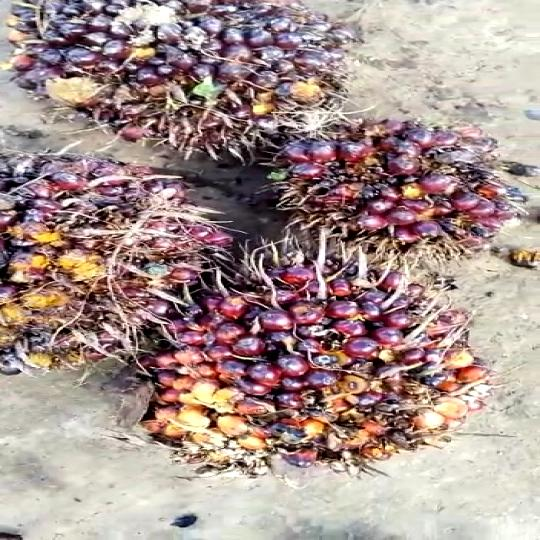masak: (140, 241, 478, 483), (1, 0, 386, 168), (257, 113, 538, 296)
